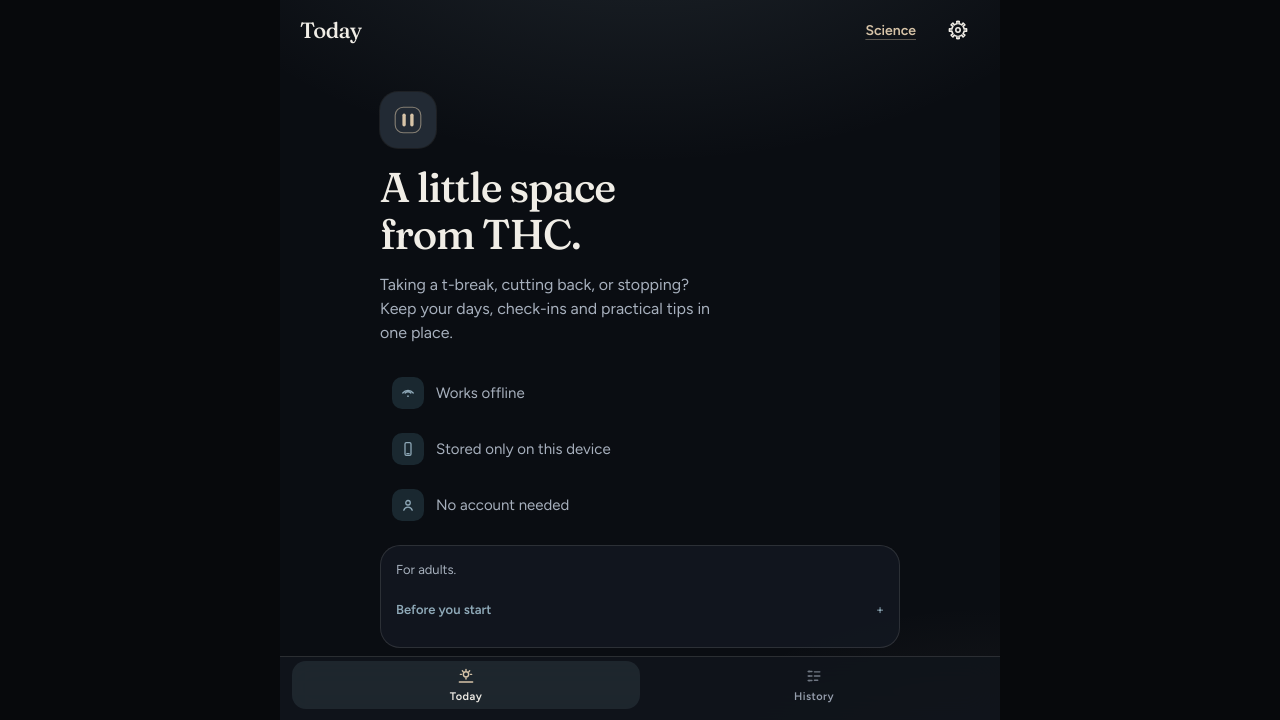
Test: settings: Your data › shows no backup message before either action runs
What coordinates should you click on to do the following:
click the button with test id "open-settings"
I would click on:
 (958, 30)
Its box is [936, 8, 980, 52].
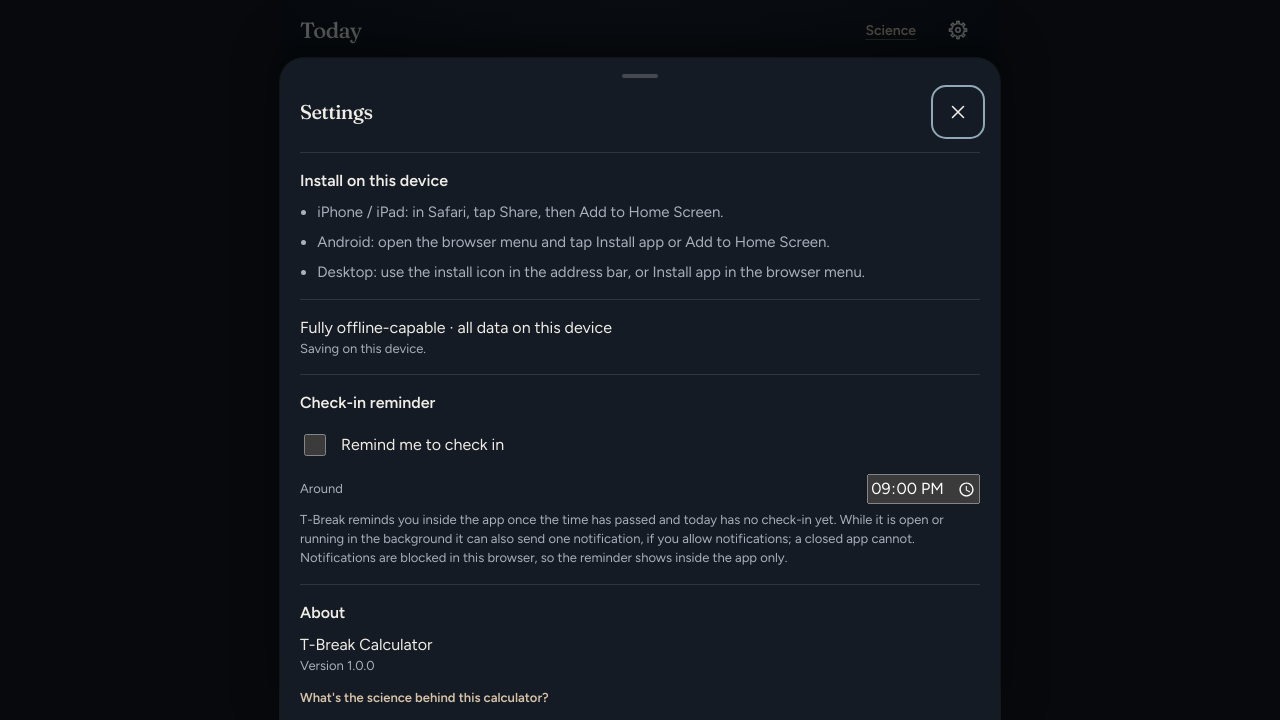
Result: the element with test id "settings-modal" is shown at [280, 0, 1000, 719]
